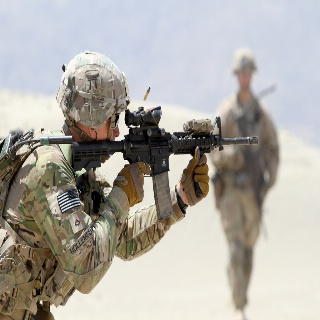rifle: (69, 105, 260, 221)
